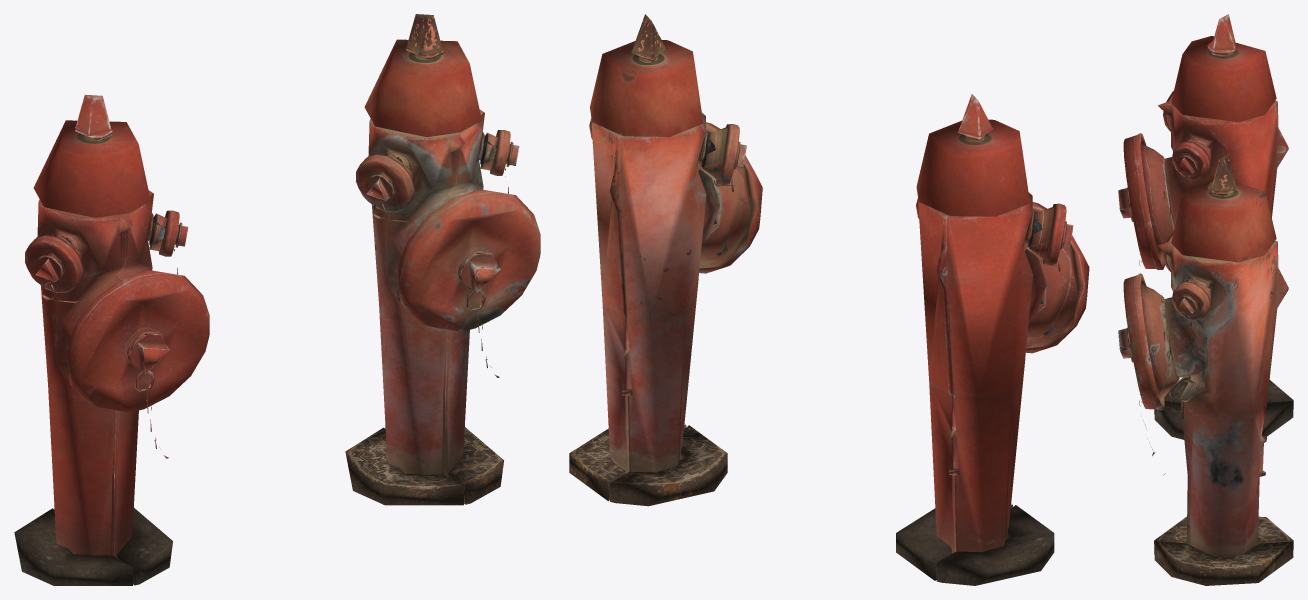
Rendered from fire_hydrant.glb.
3 views of the same model, side by side, from view 1: azimuth 30°, elevation 25°; view 2: azimuth 150°, elevation 25°; view 3: azimuth 270°, elevation 25° (orthographic). The views are drawn at different scales.
Parts seen in each view (by area): view 1: fire_hydrant_aged, fire_hydrant, fire_hydrant_cap_01, fire_hydrant_cap_01_aged, fire_hydrant_cap_03, fire_hydrant_cap_03_aged, fire_hydrant_cap_02, fire_hydrant_cap_02_aged; view 2: fire_hydrant, fire_hydrant_aged, fire_hydrant_cap_01_aged, fire_hydrant_cap_01, fire_hydrant_cap_03_aged, fire_hydrant_cap_03; view 3: fire_hydrant_aged, fire_hydrant, fire_hydrant_cap_01_aged, fire_hydrant_cap_01, fire_hydrant_cap_02_aged, fire_hydrant_cap_02, fire_hydrant_chain_aged.
Part boxes in pixels (left/top/right/bottom): fire_hydrant_aged: left=345, top=14, right=503, bottom=505; fire_hydrant: left=14, top=94, right=172, bottom=585; fire_hydrant_cap_01: left=66, top=270, right=209, bottom=412; fire_hydrant_cap_01_aged: left=397, top=189, right=540, bottom=331; fire_hydrant_cap_03: left=25, top=234, right=84, bottom=292; fire_hydrant_cap_03_aged: left=355, top=153, right=415, bottom=211; fire_hydrant_cap_02: left=159, top=210, right=188, bottom=256; fire_hydrant_cap_02_aged: left=490, top=130, right=519, bottom=175; fire_hydrant: left=896, top=94, right=1077, bottom=585; fire_hydrant_aged: left=569, top=14, right=750, bottom=506; fire_hydrant_cap_01_aged: left=699, top=122, right=762, bottom=273; fire_hydrant_cap_01: left=1025, top=202, right=1089, bottom=353; fire_hydrant_cap_03_aged: left=716, top=124, right=746, bottom=185; fire_hydrant_cap_03: left=1043, top=203, right=1073, bottom=265; fire_hydrant_aged: left=1141, top=154, right=1293, bottom=585; fire_hydrant: left=1141, top=14, right=1293, bottom=439; fire_hydrant_cap_01_aged: left=1118, top=273, right=1164, bottom=410; fire_hydrant_cap_01: left=1118, top=133, right=1164, bottom=270; fire_hydrant_cap_02_aged: left=1171, top=281, right=1210, bottom=320; fire_hydrant_cap_02: left=1171, top=141, right=1210, bottom=179; fire_hydrant_chain_aged: left=1139, top=293, right=1197, bottom=475.
Size of the model in its own units: 0.8742 by 0.7992 by 0.3173.
2 materials, 2 textured.
